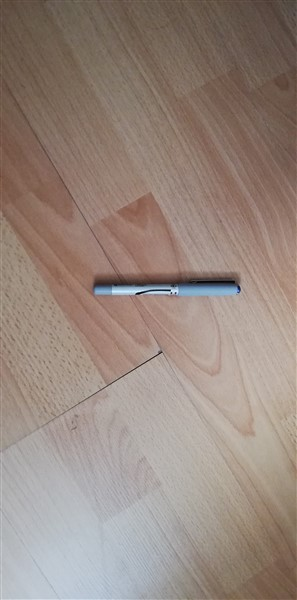pilot kalem: (89, 274, 243, 304)
